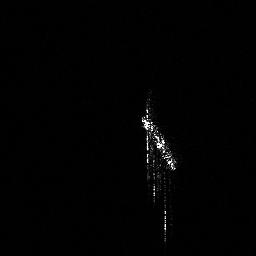ship: (137, 89, 181, 243)
